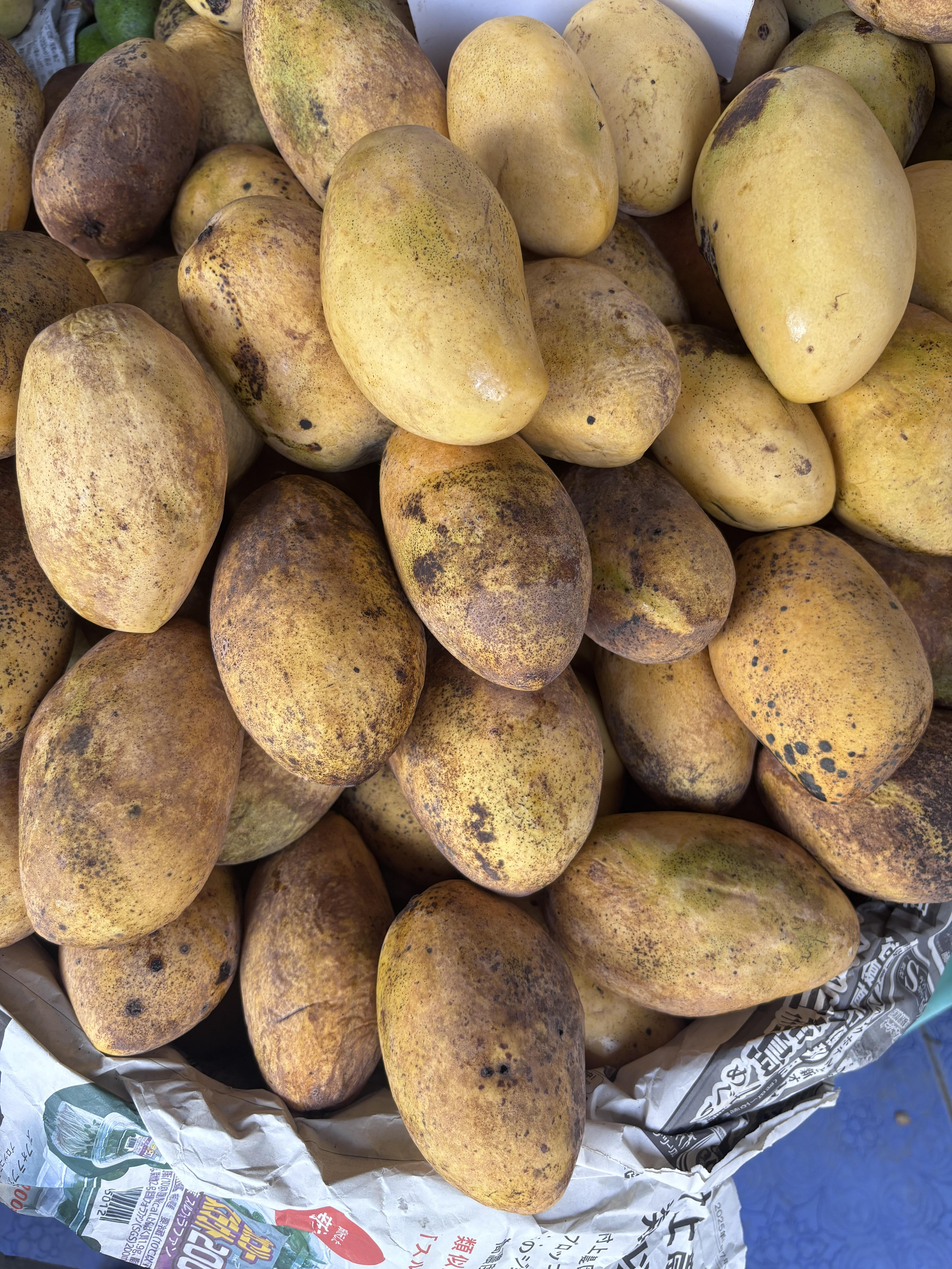mango: (692, 66, 916, 403), (320, 125, 548, 444), (16, 304, 228, 632), (377, 880, 585, 1214), (210, 475, 426, 786)
occluded: (19, 617, 243, 949), (545, 811, 859, 1017), (709, 526, 933, 809), (178, 196, 394, 471), (380, 429, 591, 690), (390, 648, 602, 897), (240, 813, 394, 1111), (243, 0, 448, 208), (447, 16, 618, 257), (651, 324, 835, 531), (756, 709, 952, 903), (33, 38, 200, 259), (563, 457, 735, 663), (814, 304, 952, 555), (59, 867, 240, 1056), (563, 0, 720, 216), (522, 258, 680, 467), (126, 257, 263, 485), (594, 645, 757, 814), (775, 9, 935, 164), (824, 518, 952, 708), (0, 230, 106, 459), (0, 457, 76, 757), (171, 143, 319, 255), (218, 733, 342, 865), (166, 14, 276, 158), (338, 762, 458, 894), (562, 948, 687, 1069), (585, 214, 690, 325), (0, 36, 45, 230), (720, 0, 790, 108), (906, 161, 952, 321), (0, 744, 33, 948), (87, 238, 172, 303), (846, 0, 952, 43), (783, 0, 851, 32), (186, 0, 243, 34), (836, 631, 837, 631)
